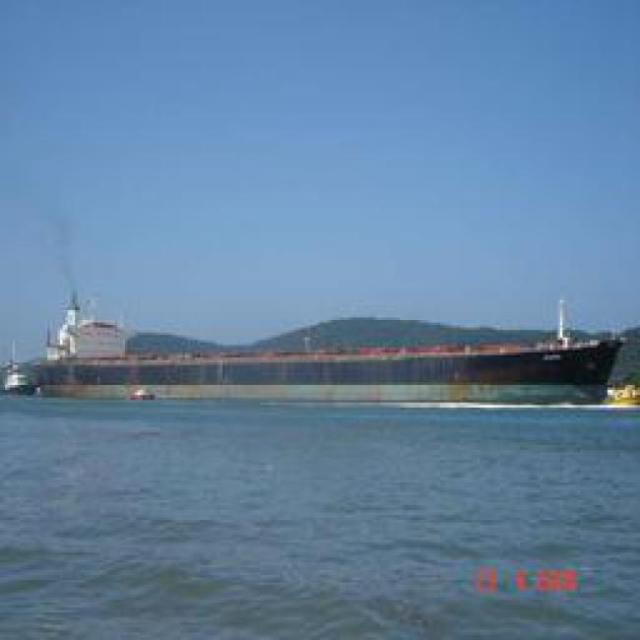boat: (22, 319, 624, 419)
